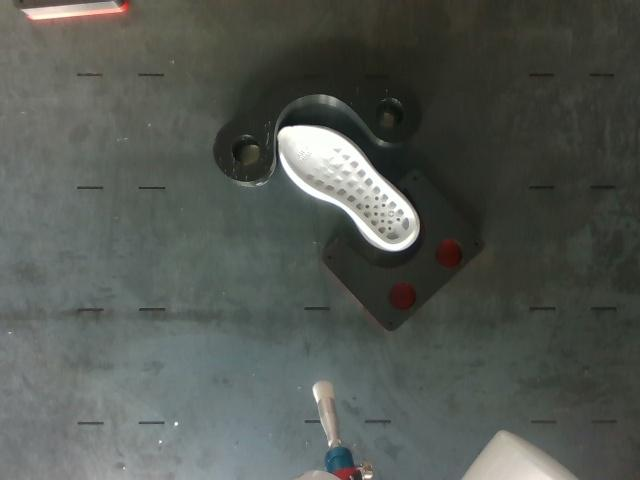shoes: (278, 126, 415, 245)
